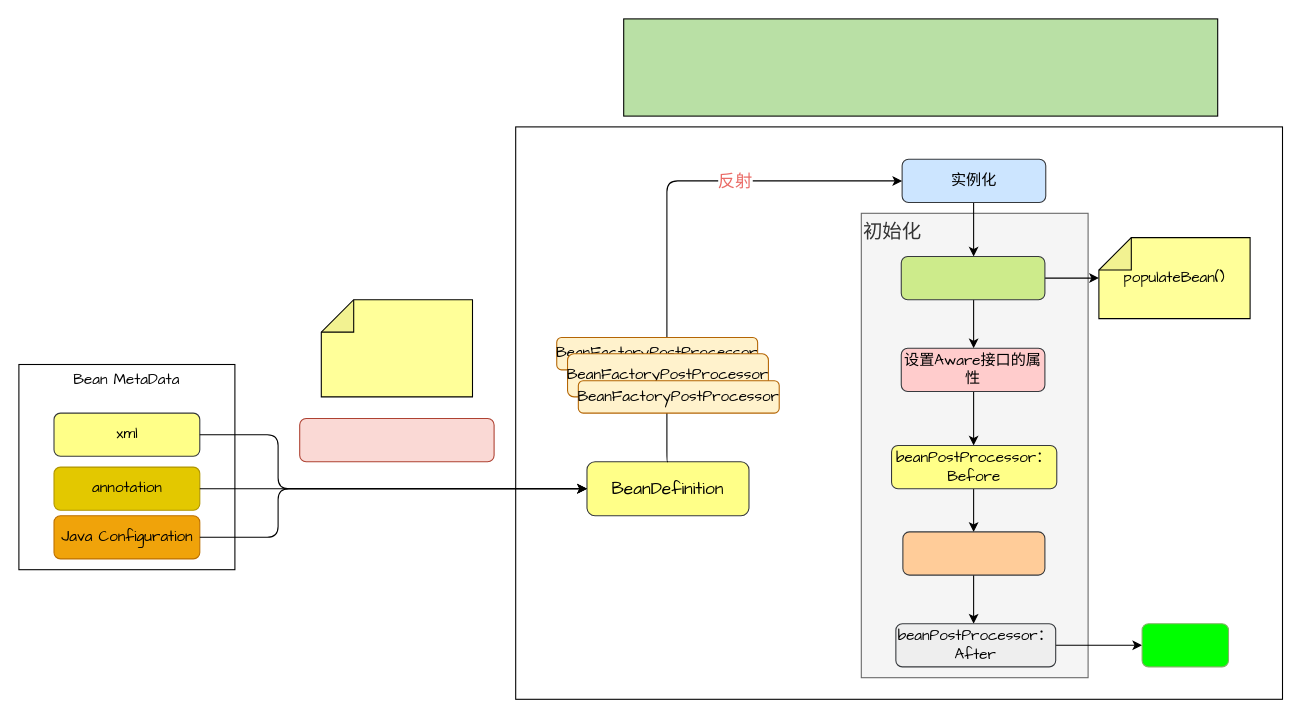
This 1301x718 diagram has some shape labels left out. The shapes that lost their labels are listed below. From the top down, each one's box as (x1, y1, x2, y2) in pixels, then its label:
(623, 18, 1218, 116): BeanFactory Spring容器的根接口，也是容器的入口
(900, 255, 1045, 300): 填充属性
(320, 299, 473, 397): 定义规范，方便扩展
(515, 126, 1282, 699): IOC
(299, 417, 494, 462): BeanDefinitionReader
(902, 531, 1045, 575): 初始化 执行init-method
(1141, 623, 1228, 667): 完整对象
